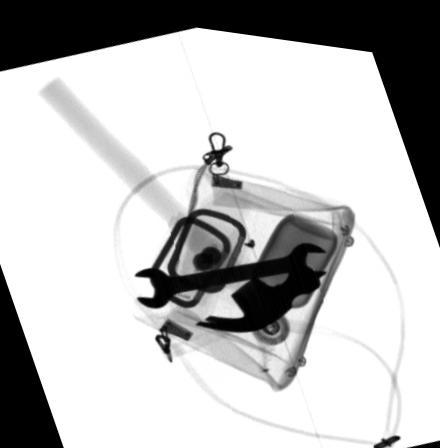Hammer: (33, 73, 321, 324)
Wrench: (132, 231, 329, 303)
